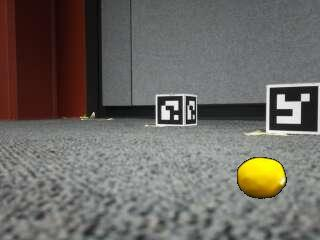lemon: (237, 158, 286, 198)
